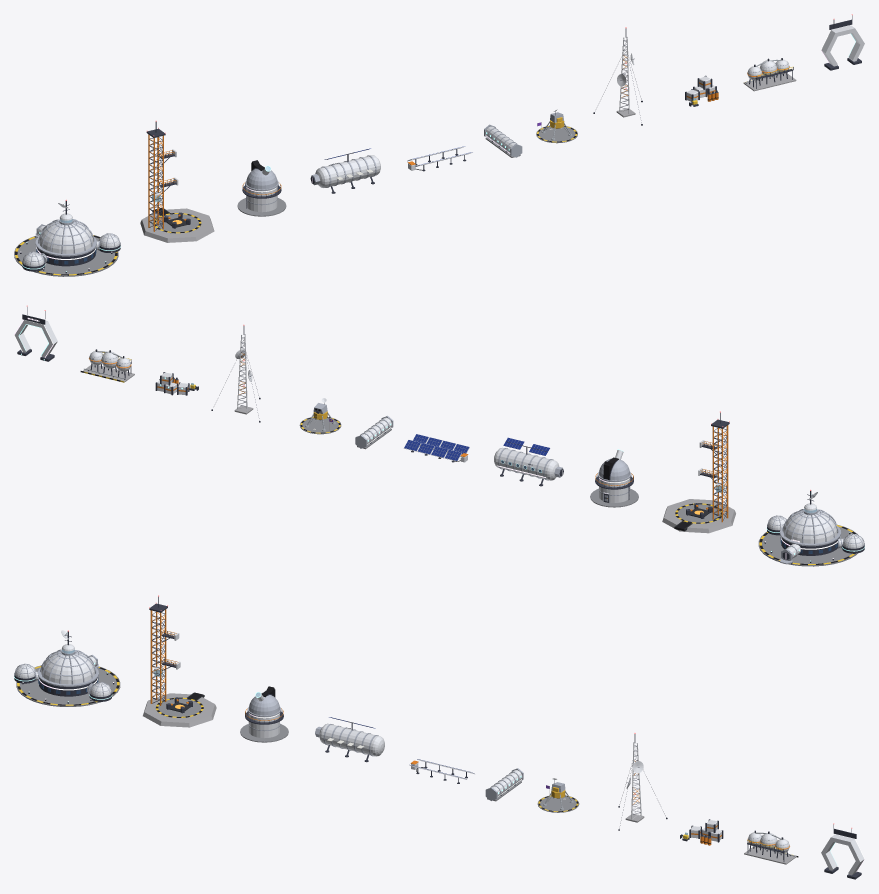
Rendered from MoonBase.fbx.
3 renders of one model, top to bottom at view 1: azimuth 30°, elevation 25°; view 2: azimuth 150°, elevation 25°; view 3: azimuth 330°, elevation 25°, orthographic.
Parts seen in each view (by area): view 1: CommandCenter_MoonWhite, CommandCenter_MoonPanel, CommandCenter_Grey, LaunchPad_Concrete, HabModule_MoonWhite, LaunchPad_Orange, LaunchPad_MoonDark, CommandCenter_MoonDark, MoonGate_MoonWhite, Observatory_MoonWhite, Observatory_MoonPanel, LunarLander_Grey; view 2: CommandCenter_MoonWhite, CommandCenter_MoonPanel, CommandCenter_Grey, HabModule_MoonWhite, LaunchPad_Concrete, LaunchPad_Orange, SolarArray_Solar, LaunchPad_MoonDark, CommandCenter_MoonDark, MoonGate_MoonWhite, Observatory_MoonWhite, FuelTanks_MoonWhite (+1 smaller); view 3: CommandCenter_MoonWhite, CommandCenter_MoonPanel, CommandCenter_Grey, LaunchPad_Concrete, HabModule_MoonWhite, LaunchPad_Orange, LaunchPad_MoonDark, CommandCenter_MoonDark, MoonGate_MoonWhite, Observatory_MoonWhite, Observatory_MoonPanel.
Boxes of the visible parts, x1,y1,x2,y2 form: CommandCenter_MoonWhite: (23, 203, 119, 266); CommandCenter_MoonPanel: (22, 219, 120, 266); CommandCenter_Grey: (14, 235, 118, 276); LaunchPad_Concrete: (140, 208, 214, 242); HabModule_MoonWhite: (315, 155, 380, 187); LaunchPad_Orange: (148, 134, 186, 231); LaunchPad_MoonDark: (146, 121, 190, 230); CommandCenter_MoonDark: (20, 201, 120, 273); MoonGate_MoonWhite: (821, 25, 864, 66); Observatory_MoonWhite: (246, 166, 277, 212); Observatory_MoonPanel: (245, 168, 278, 205); LunarLander_Grey: (536, 125, 577, 143); CommandCenter_MoonWhite: (767, 492, 864, 558); CommandCenter_MoonPanel: (767, 509, 864, 564); CommandCenter_Grey: (758, 524, 858, 566); HabModule_MoonWhite: (494, 447, 559, 480); LaunchPad_Concrete: (662, 499, 735, 533); LaunchPad_Orange: (690, 425, 728, 522); SolarArray_Solar: (404, 434, 469, 460); LaunchPad_MoonDark: (686, 412, 729, 520); CommandCenter_MoonDark: (764, 491, 864, 562); MoonGate_MoonWhite: (14, 320, 57, 357); Observatory_MoonWhite: (599, 450, 630, 502); FuelTanks_MoonWhite: (89, 351, 130, 371); CommandCenter_MoonWhite: (14, 630, 111, 696); CommandCenter_MoonPanel: (14, 649, 111, 696); CommandCenter_Grey: (16, 665, 120, 706); LaunchPad_Concrete: (143, 693, 216, 727); HabModule_MoonWhite: (319, 723, 384, 756); LaunchPad_Orange: (150, 609, 188, 706); LaunchPad_MoonDark: (149, 596, 192, 713); CommandCenter_MoonDark: (14, 631, 114, 703); MoonGate_MoonWhite: (821, 834, 864, 875); Observatory_MoonWhite: (248, 692, 279, 738); Observatory_MoonPanel: (247, 695, 281, 731).
Size of the model in its own units: 558 by 70.8 by 61.46.
